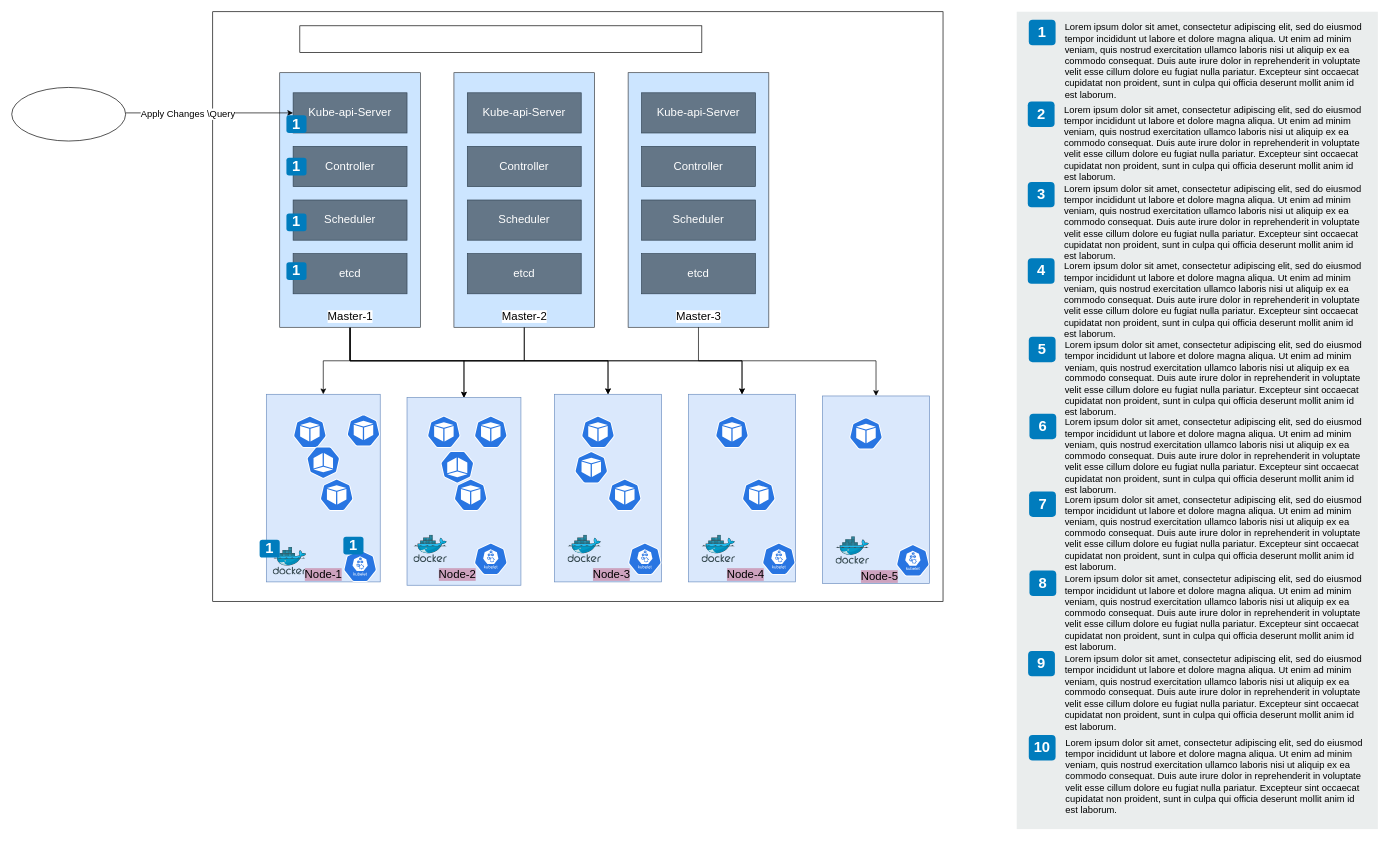
Image size: 1390x841. Some labels were removed from this diagram. Each missing label, with the centre of its shape:
Client: the point at 68,114
Kubernetes Architecture: the point at 500,39
